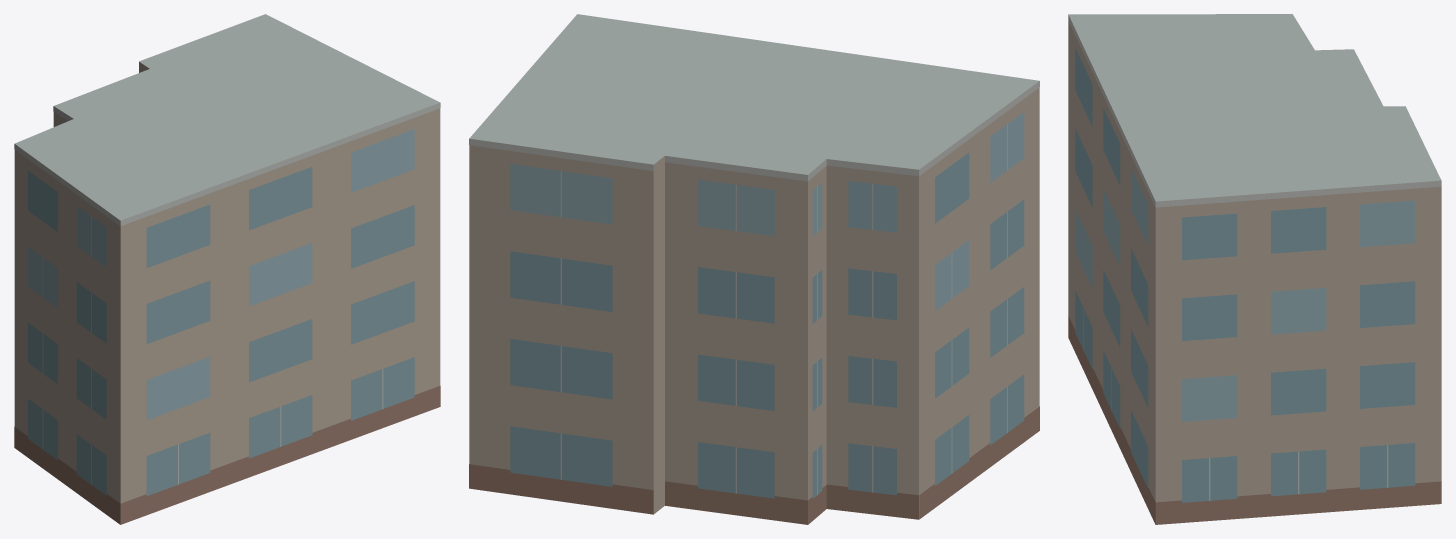
Rendered from survey-upis-33006795.glb.
3 views of the same model, side by side, from view 1: azimuth 30°, elevation 25°; view 2: azimuth 150°, elevation 25°; view 3: azimuth 270°, elevation 25° (orthographic). The views are drawn at different scales.
Visible parts, largest first — view 1: survey-upis-33006795.tmp; view 2: survey-upis-33006795.tmp; view 3: survey-upis-33006795.tmp.
Boxes of the visible parts, x1=… form: survey-upis-33006795.tmp: x1=14, y1=14, x2=440, y2=524; survey-upis-33006795.tmp: x1=469, y1=14, x2=1039, y2=524; survey-upis-33006795.tmp: x1=1068, y1=14, x2=1441, y2=524.
Bounding box in the file's own units: 16.43 × 13.2 × 13.82.
